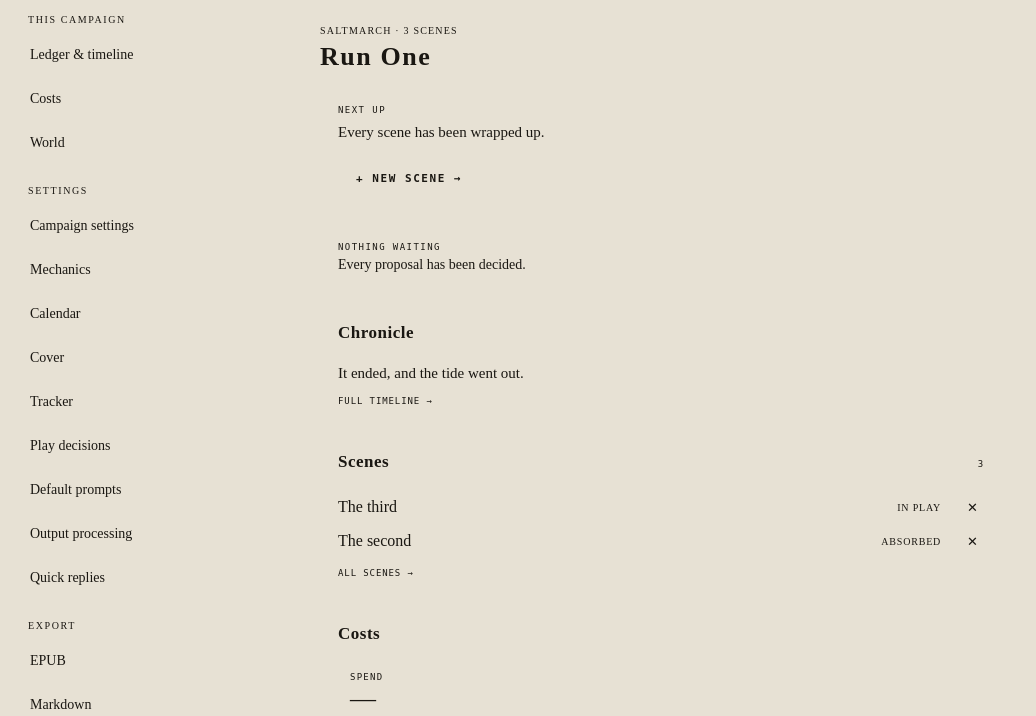
a scene a turn is holding keeps its hub row and says why
Expected: the link "The third" is shown, left=338, top=498, right=397, bottom=515
Click the button named "Delete The third": (973, 507) left=961, top=501, right=984, bottom=514
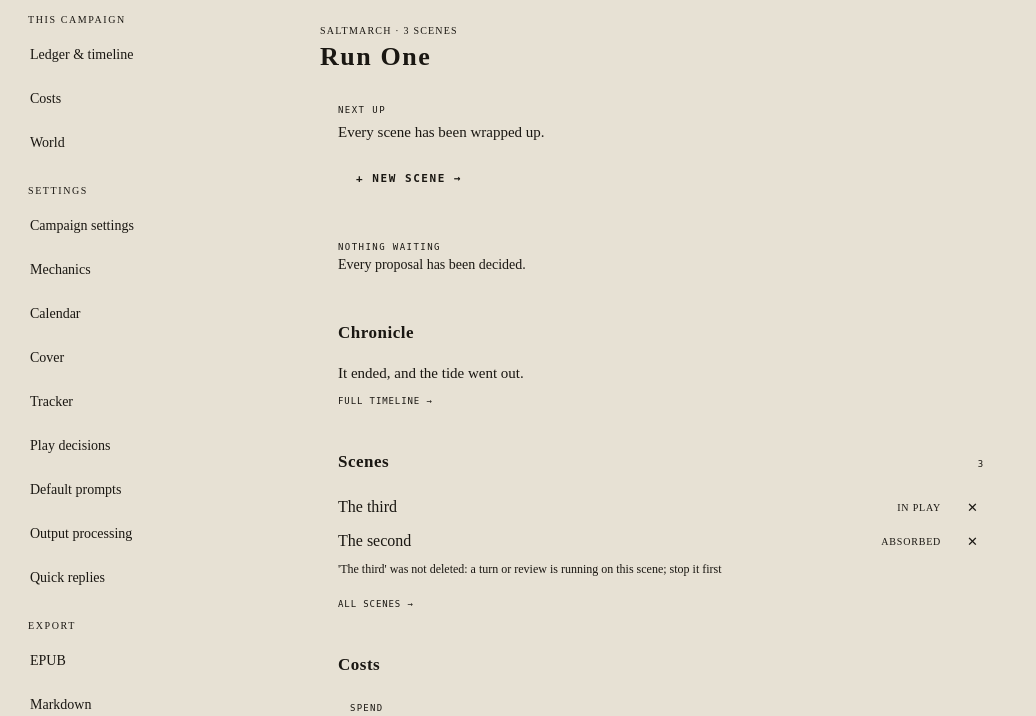
Expected: the link "The third" is shown, left=338, top=498, right=397, bottom=515
Now the text "a turn or review is running on this scene" is shown, box left=338, top=562, right=722, bottom=576
